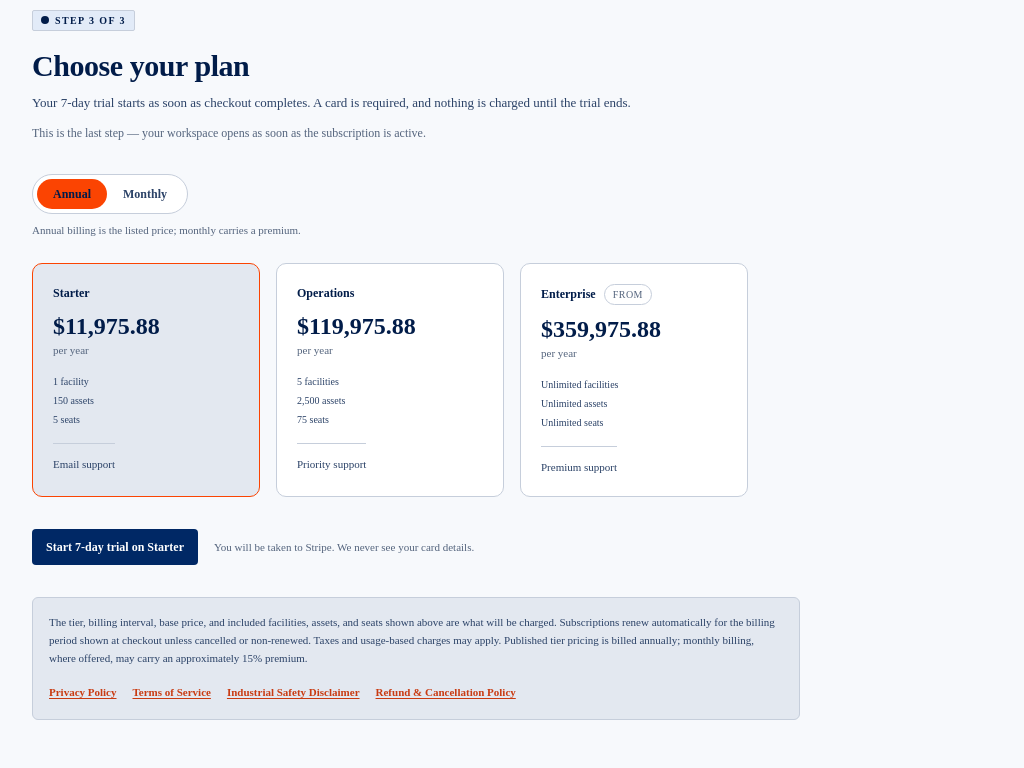
it: signup step 3: choose a plan › says nothing was charged when the session cannot be opened
(page scrolled)
Click the button "Start 7-day trial on Starter" at (115, 547), box top-left (32, 529), bottom-right (198, 565)
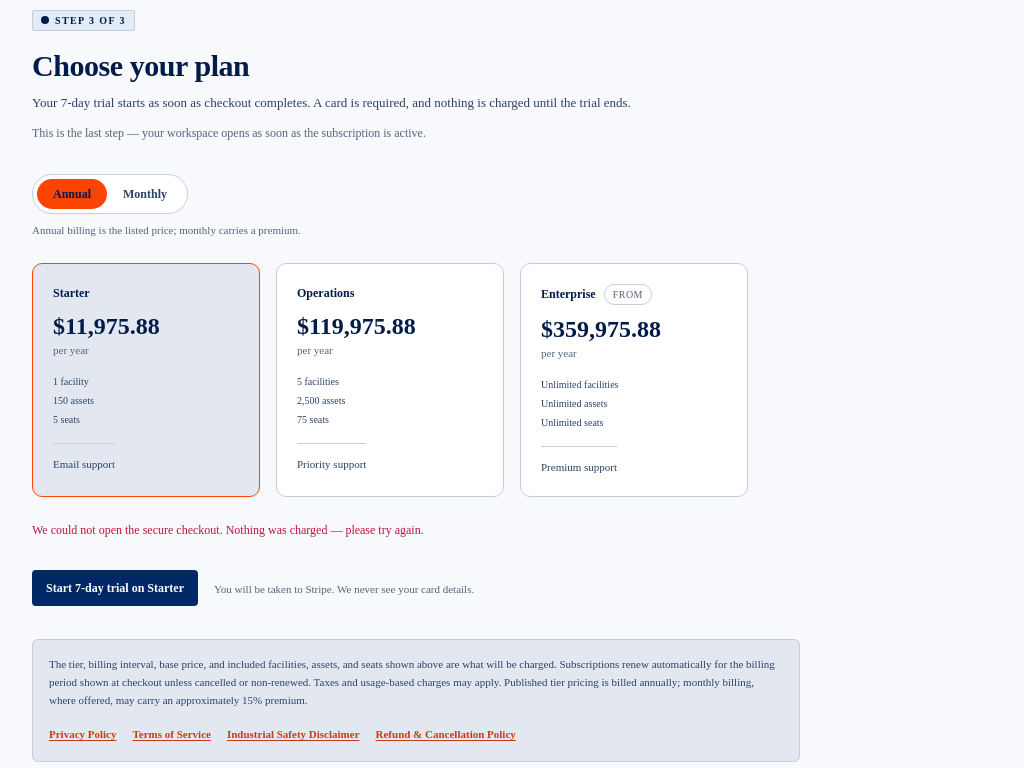
Expected: the message shows "Nothing was charged", top-left (32, 523), bottom-right (424, 537)
